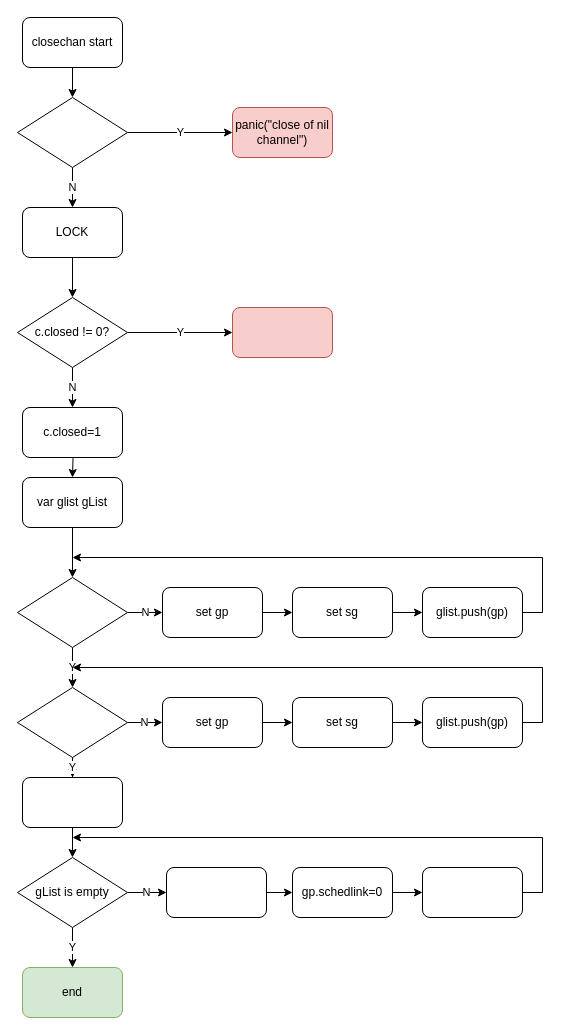
Image size: 568x1035. Some labels were removed from this diagram. The shapes that lost their labels are listed below. From the top down, each one's centre as x and y in pixels, then its label:
[72,132]: channel is nil
[282,332]: panic("close of closed channel")
[72,612]: c.recvq is empty?
[72,722]: c.sendq is empty?
[72,802]: UNLOCK
[216,892]: gp :=glist.pop()
[472,892]: goready(gp, 3)
